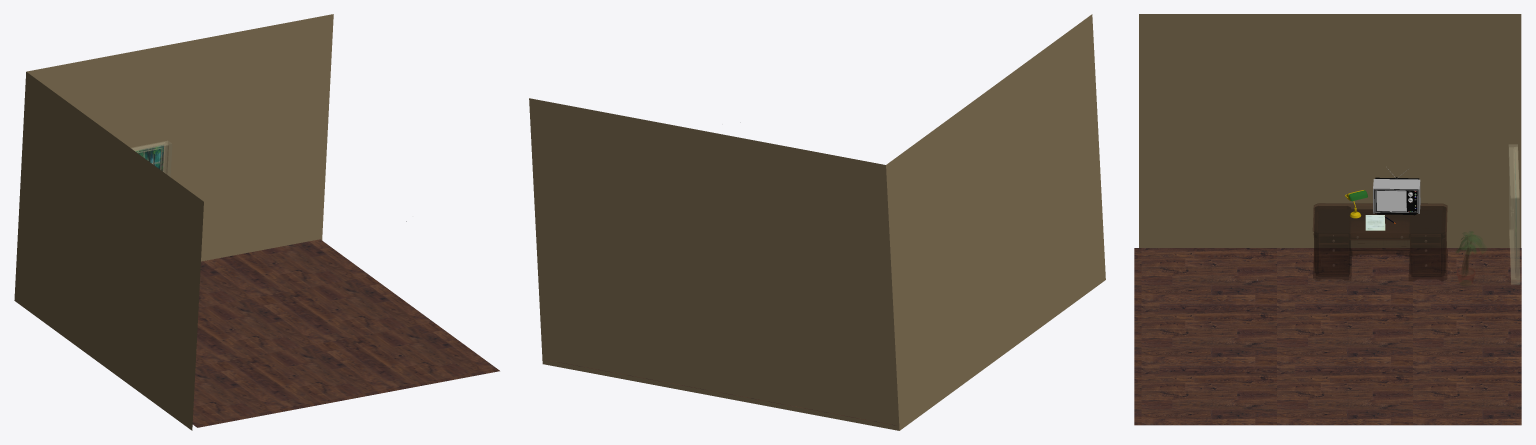
File: salleBombe.glb
The picture shows the model from 3 angles, left to right: view 1: azimuth 30°, elevation 25°; view 2: azimuth 150°, elevation 25°; view 3: azimuth 270°, elevation 25°; orthographic projection. The views are drawn at different scales.
Parts seen in each view (by area): view 1: Cube, Cube.002, 16696_20_Pane_Casement_Window-Pine_V1.001; view 2: Cube; view 3: Cube, Cube.002, 10240_Office_Desk_v3_max2011, 16696_20_Pane_Casement_Window-Pine_V1.001, Picture.003, eb_house_plant_03, ecranTV.
Boxes of the visible parts, x1=… form: Cube: x1=14, y1=14, x2=333, y2=430; Cube.002: x1=192, y1=239, x2=499, y2=427; 16696_20_Pane_Casement_Window-Pine_V1.001: x1=131, y1=141, x2=171, y2=176; Cube: x1=529, y1=14, x2=1105, y2=430; Cube: x1=1139, y1=14, x2=1521, y2=247; Cube.002: x1=1134, y1=248, x2=1521, y2=425; 10240_Office_Desk_v3_max2011: x1=1313, y1=203, x2=1447, y2=280; 16696_20_Pane_Casement_Window-Pine_V1.001: x1=1509, y1=144, x2=1520, y2=284; Picture.003: x1=1373, y1=168, x2=1420, y2=215; eb_house_plant_03: x1=1456, y1=231, x2=1486, y2=285; ecranTV: x1=1376, y1=191, x2=1406, y2=211.
Size of the model in its own units: 2.86 by 2.09 by 2.8.
38 materials, 5 textured.
